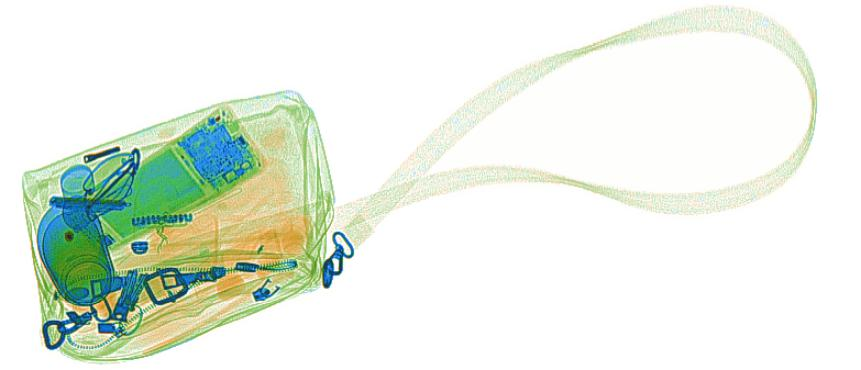knife: (48, 195, 131, 213)
